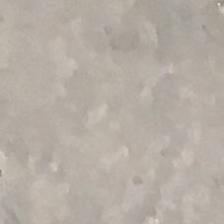Non_Crack: (25, 39, 189, 176)
